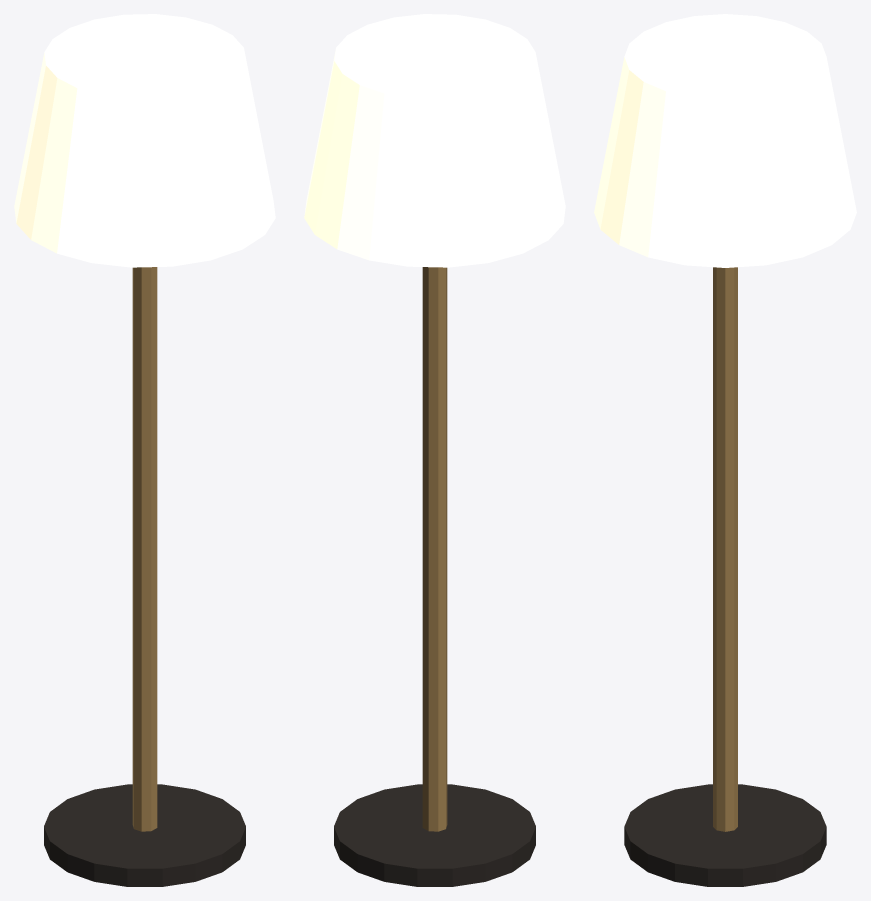
Rendered from floor_lamp.glb.
The picture shows the model from 3 angles, left to right: view 1: azimuth 30°, elevation 25°; view 2: azimuth 150°, elevation 25°; view 3: azimuth 270°, elevation 25°; orthographic projection.
Visible parts, largest first — view 1: floor_lamp_mesh; view 2: floor_lamp_mesh; view 3: floor_lamp_mesh.
Part boxes in pixels (left/top/right/bottom): floor_lamp_mesh: left=14, top=14, right=275, bottom=886; floor_lamp_mesh: left=304, top=14, right=565, bottom=886; floor_lamp_mesh: left=594, top=14, right=856, bottom=886.
Bounding box in the file's own units: 0.52 × 1.72 × 0.52.
